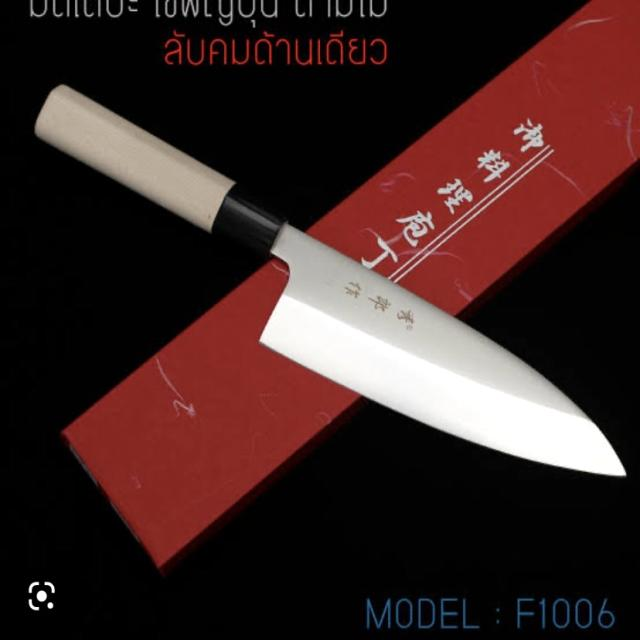knife: (20, 81, 634, 485)
